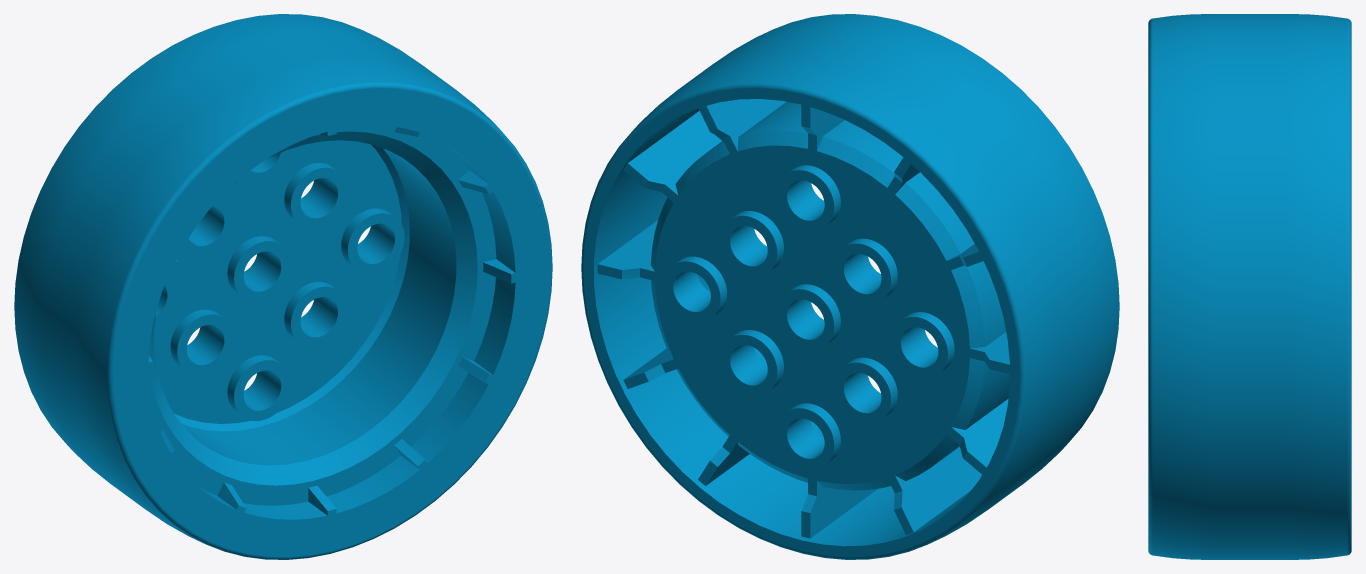
3 renders of one model, left to right at view 1: azimuth 30°, elevation 25°; view 2: azimuth 150°, elevation 25°; view 3: azimuth 270°, elevation 25°, orthographic. The views are drawn at different scales.
Parts seen in each view (by area): view 1: main_004c97; view 2: main_004c97; view 3: main_004c97.
Part boxes in pixels (bbox=[...]): main_004c97: bbox=[14, 14, 552, 559]; main_004c97: bbox=[581, 14, 1119, 559]; main_004c97: bbox=[1148, 14, 1351, 559].
Bounding box in the file's own units: 50.44 × 50.5 × 18.8.
